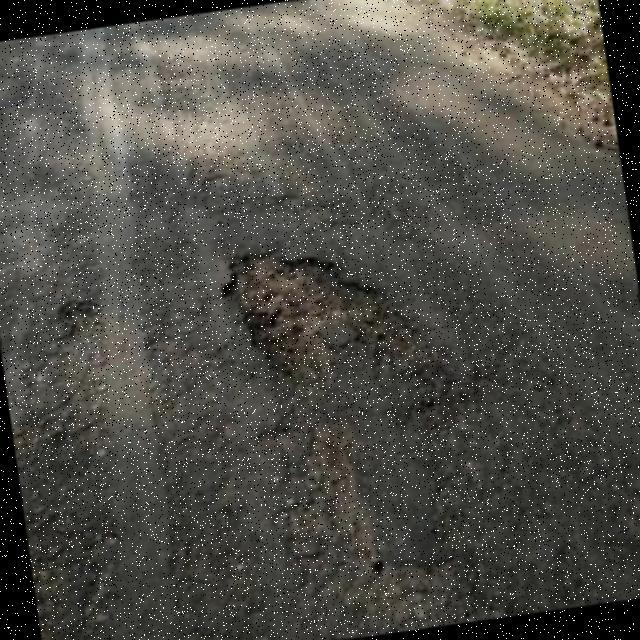Pothole: (222, 252, 436, 387), (56, 299, 102, 340)
